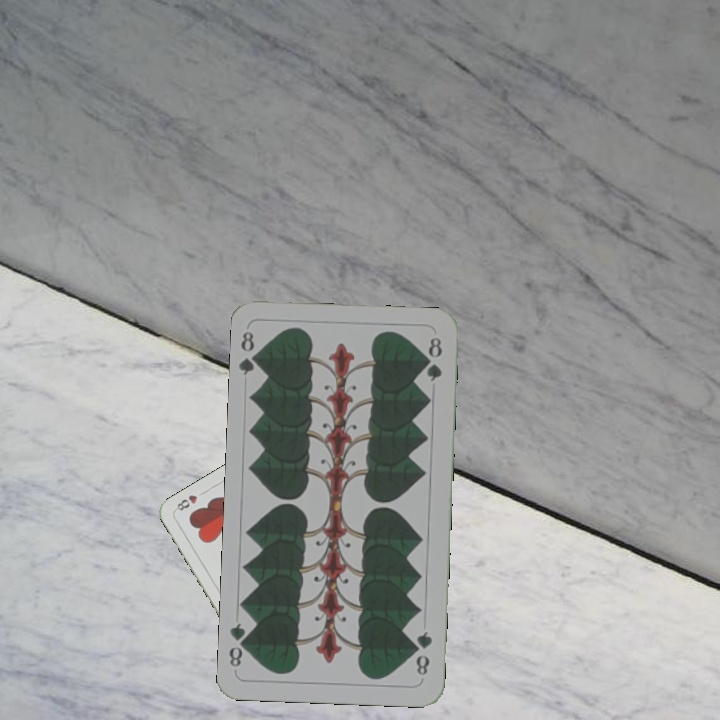G8: (236, 328, 264, 378), (410, 627, 435, 678)
